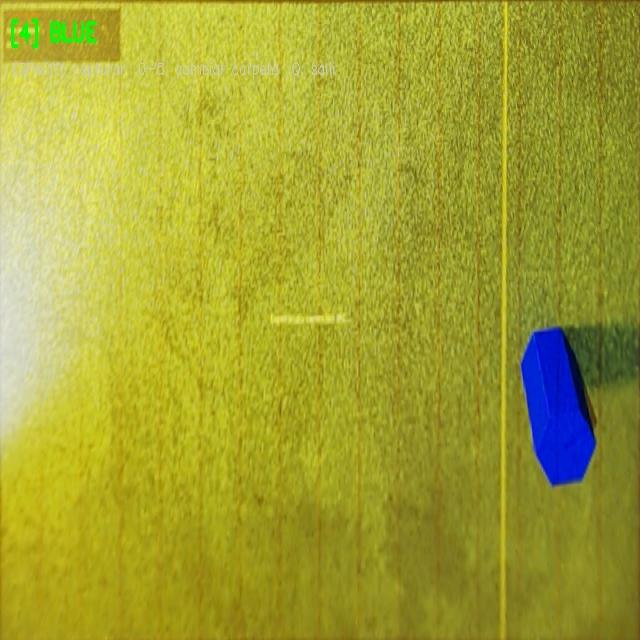blue: (521, 327, 595, 485)
